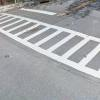Crosswalk: (2, 8, 100, 69)
